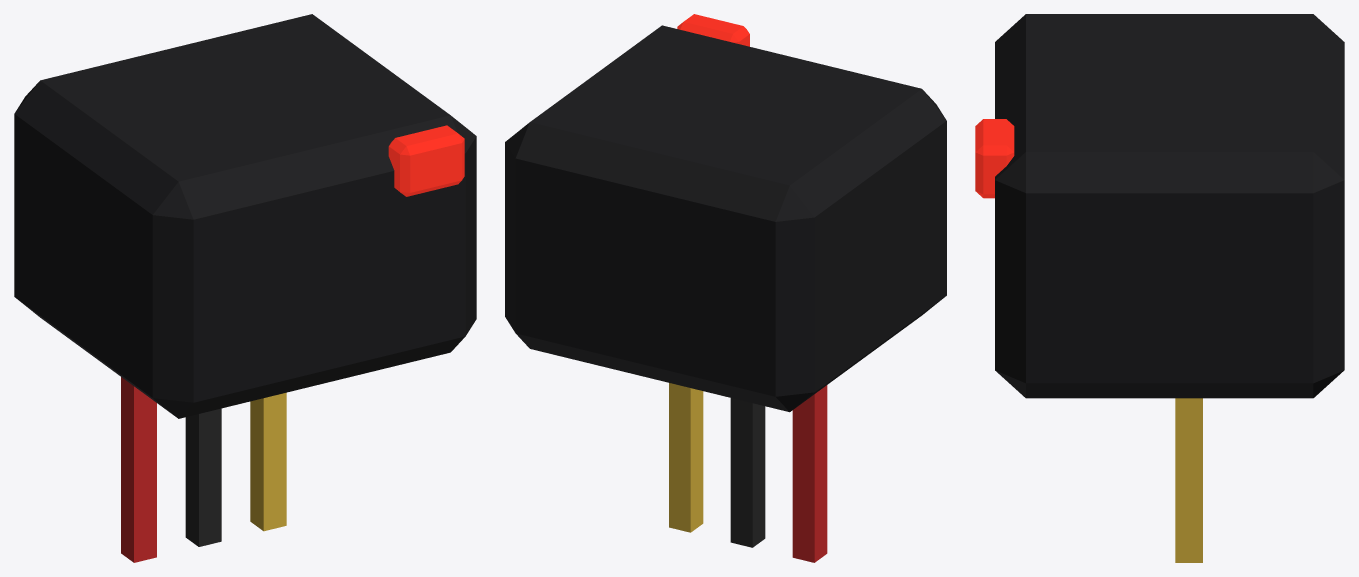
Rendered from vp_vehicle_alarm.glb.
3 renders of one model, left to right at view 1: azimuth 30°, elevation 25°; view 2: azimuth 150°, elevation 25°; view 3: azimuth 270°, elevation 25°, orthographic. The views are drawn at different scales.
Visible parts, largest first — view 1: block_box, block_wire0, block_wire2, block_wire1, block_led; view 2: block_box, block_wire0, block_wire1, block_wire2, block_led; view 3: block_box, block_wire2, block_led.
Part boxes in pixels (box(x1,y1,x2,y2)): block_box: box(14, 14, 476, 418); block_wire0: box(121, 377, 156, 562); block_wire2: box(250, 392, 286, 531); block_wire1: box(185, 408, 221, 546); block_led: box(388, 125, 464, 196); block_box: box(505, 25, 946, 412); block_wire0: box(792, 385, 827, 562); block_wire1: box(730, 398, 765, 547); block_wire2: box(669, 383, 703, 532); block_led: box(677, 14, 749, 46); block_box: box(995, 14, 1344, 398); block_wire2: box(1175, 398, 1202, 562); block_led: box(975, 119, 1014, 198).
Size of the model in its own units: 0.1 by 0.13 by 0.095.
Materials: 2 (2 with a texture image).
